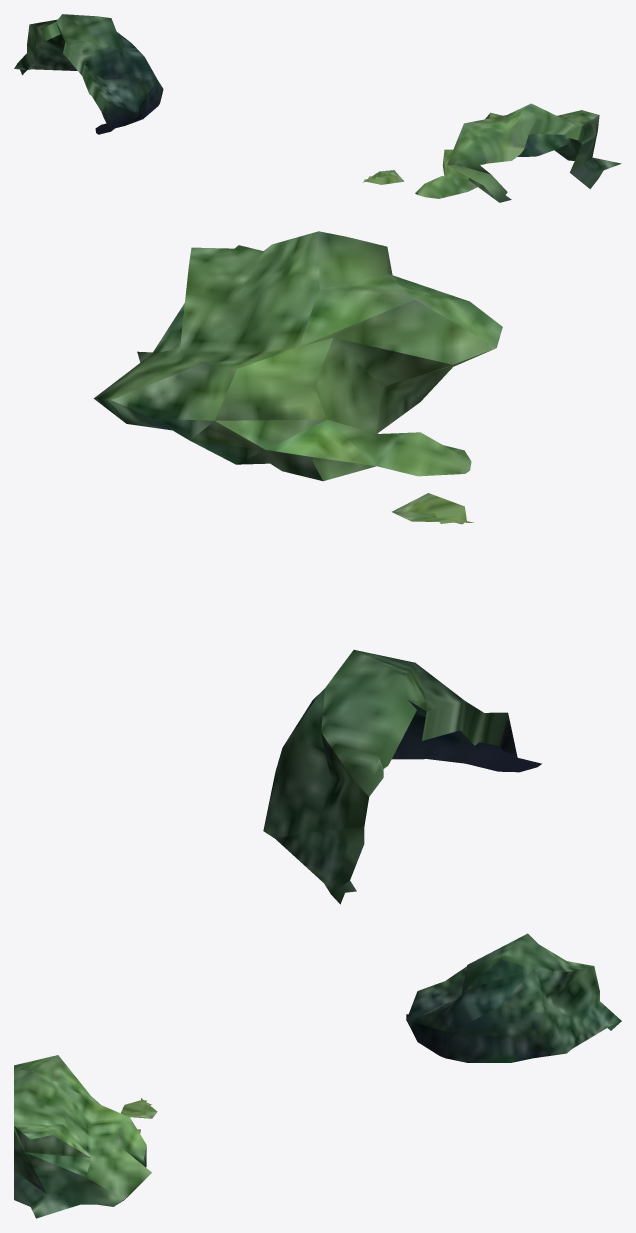
3 renders of one model, top to bottom at view 1: azimuth 30°, elevation 25°; view 2: azimuth 150°, elevation 25°; view 3: azimuth 270°, elevation 25°, orthographic. The views are drawn at different scales.
Visible parts, largest first — view 1: 30436272704361737635_0; view 2: 30436272704361737635_0; view 3: 30436272704361737635_0.
Part boxes in pixels (<box>): 30436272704361737635_0: <box>14,14,621,202</box>; 30436272704361737635_0: <box>94,231,541,904</box>; 30436272704361737635_0: <box>14,933,621,1218</box>.
Size of the model in its own units: 13.5 by 3.24 by 16.97.
Materials: 1 (1 with a texture image).
